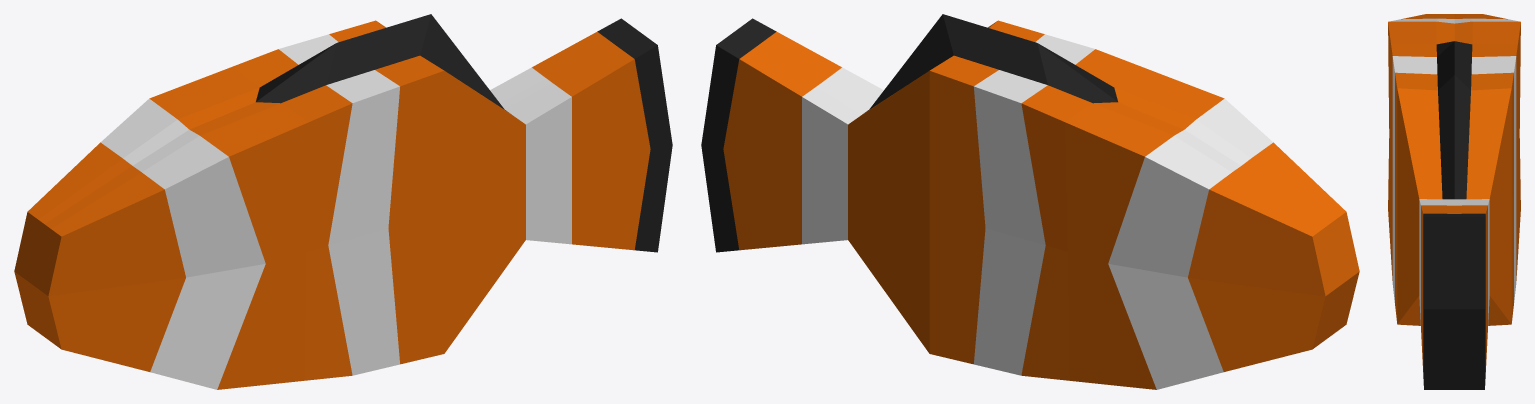
File: clownfish.fbx
3 renders of one model, left to right at view 1: azimuth 30°, elevation 25°; view 2: azimuth 150°, elevation 25°; view 3: azimuth 270°, elevation 25°, orthographic. The views are drawn at different scales.
Parts seen in each view (by area): view 1: body; view 2: body; view 3: body.
Part boxes in pixels (x1,y1,x2,y2): body: [14, 14, 672, 389]; body: [701, 14, 1359, 389]; body: [1388, 14, 1520, 389].
Size of the model in its own units: 225 by 108 by 49.74.
